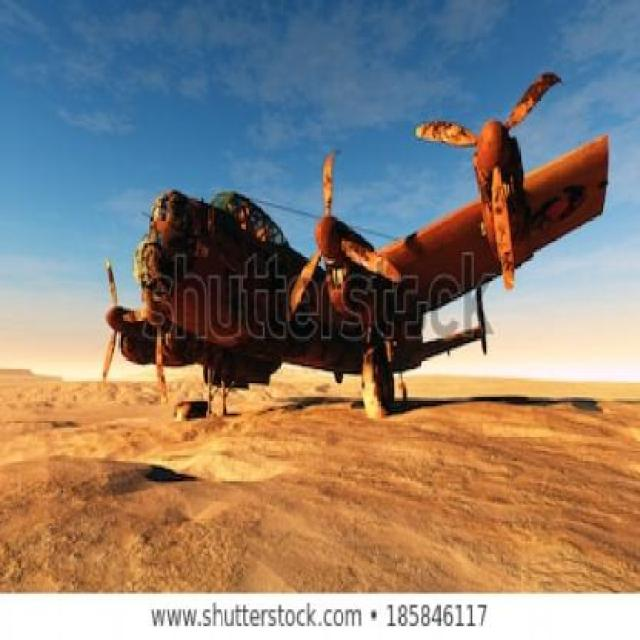corrosion: (104, 69, 611, 417)
